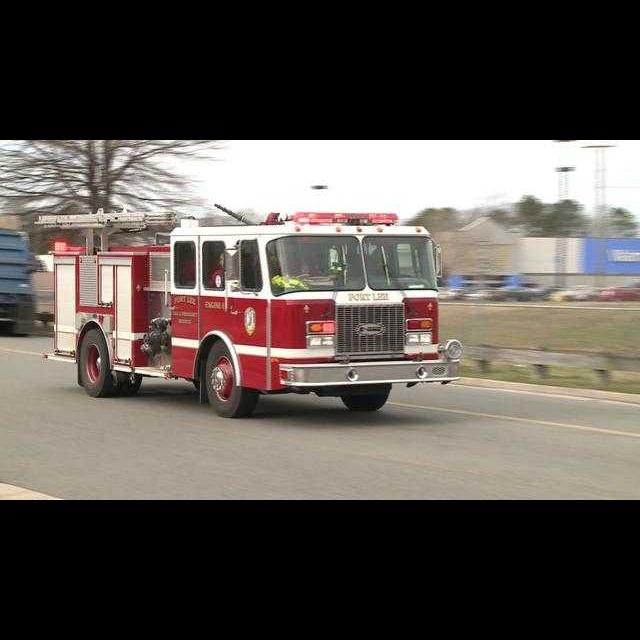emergency: (36, 204, 464, 418)
